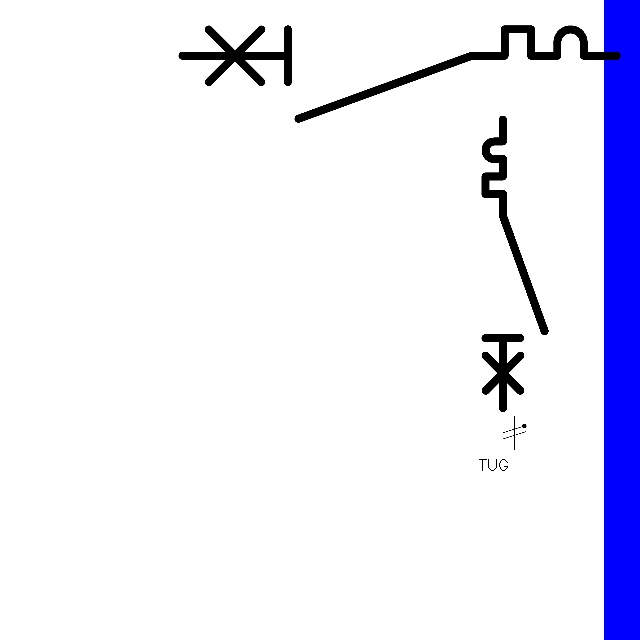interruptor_termomagnetico: (171, 18, 628, 130), (478, 112, 552, 416)
